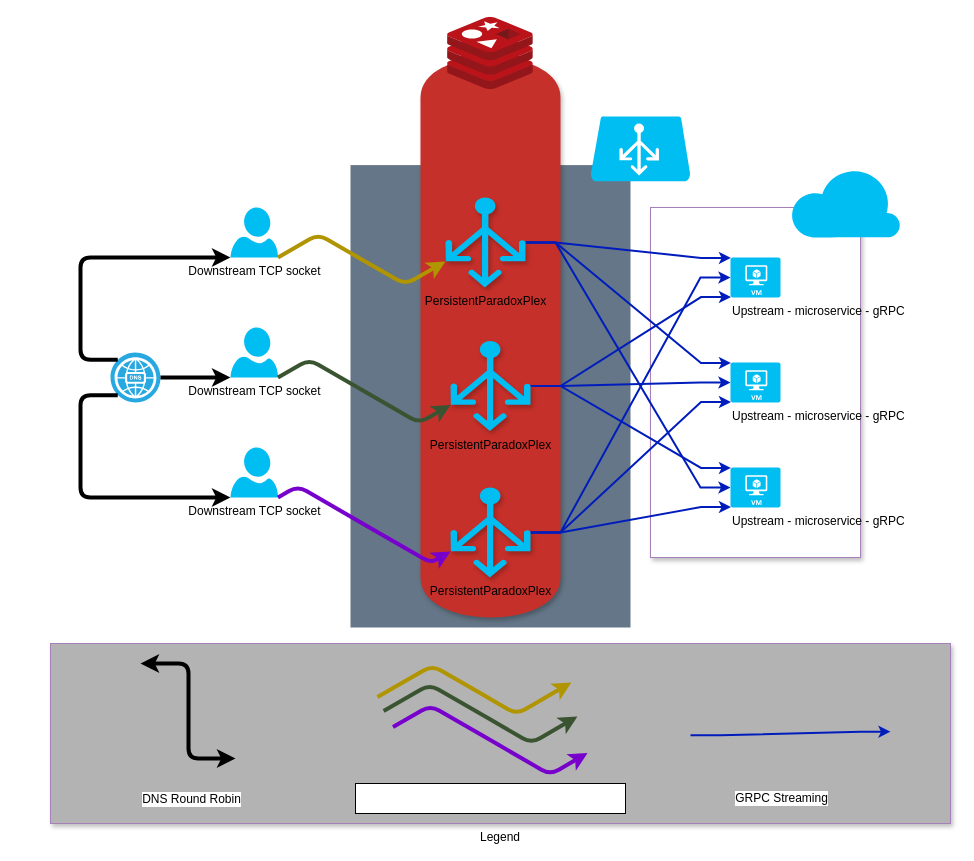
Some shapes in this 974 by 861 pixel diagram are drawn without their labels. The shapes that lost their labels are listed below. From the top down, each one's centre as x and y in pixels, then its label:
pixel 490 53: Redis
pixel 640 148: Load balancer pool
pixel 845 202: Cloud
pixel 135 377: DNS PROVIDER
pixel 490 798: Sticky/Persistent TCP workflow for a single LB
